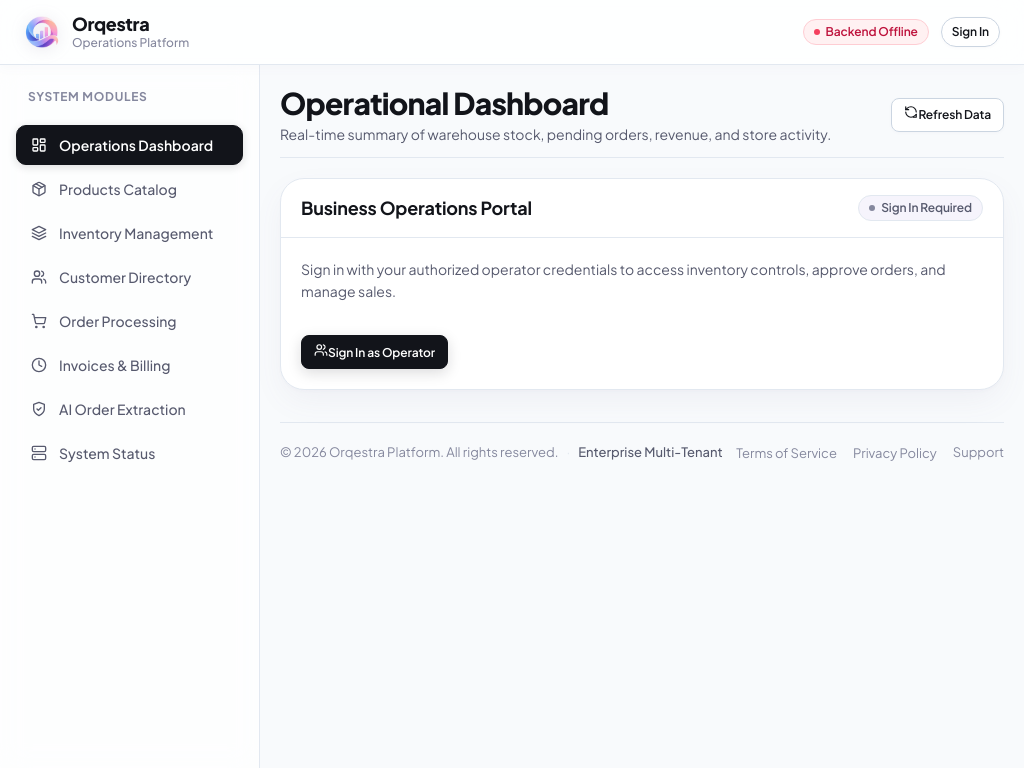
Scenario: App Root Component › renders route suspense loading fallback with accessible status role when navigating to lazy modules
Click the button "Order Processing" at (130, 321), box [16,301,243,341]
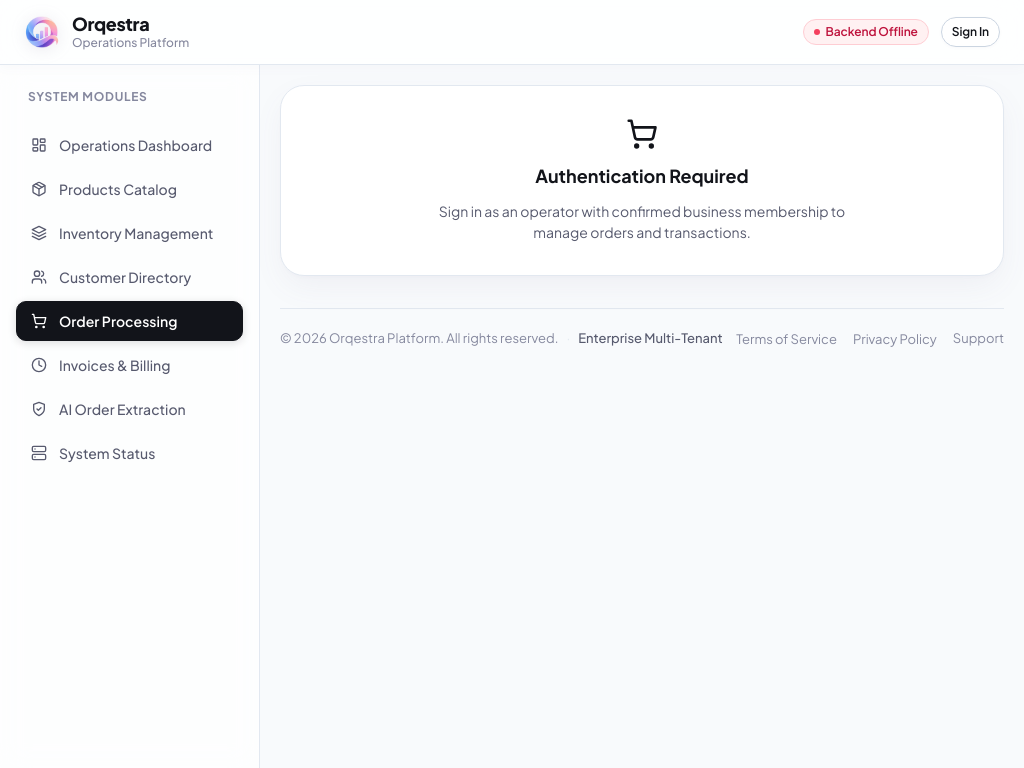
Expected: the text "Authentication Required" is shown, [535,162,749,189]
Expected: the text "Sign in as an operator with confirmed business membership to manage orders" is shown, [439,202,845,241]
